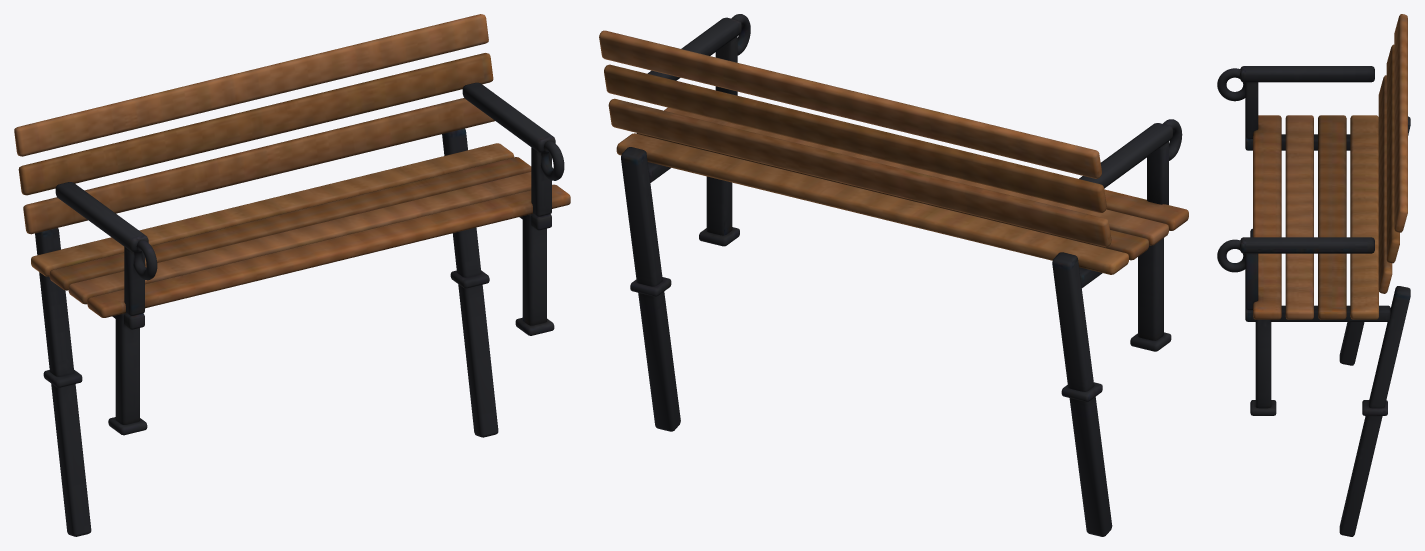
The model's file is bench.glb.
3 views of the same model, side by side, from view 1: azimuth 30°, elevation 25°; view 2: azimuth 150°, elevation 25°; view 3: azimuth 270°, elevation 25° (orthographic). The views are drawn at different scales.
Visible parts, largest first — view 1: bench; view 2: bench; view 3: bench.
Boxes of the visible parts, box(x1,y1,x2,y2) form: bench: box(14, 14, 570, 536); bench: box(599, 14, 1188, 536); bench: box(1217, 14, 1410, 536).
Bounding box in the file's own units: 1.8 × 1.43 × 0.745.
8 materials, 8 textured.
